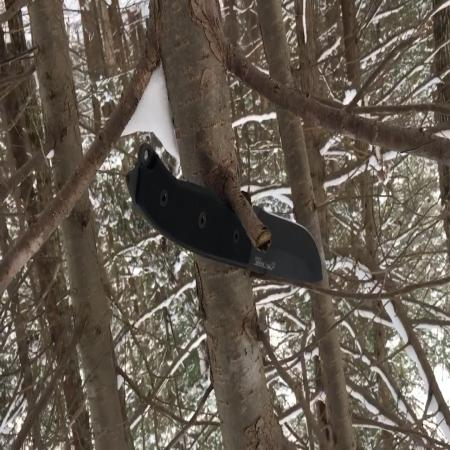long weapon: (191, 179, 330, 291)
